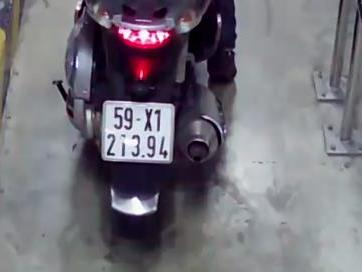num_plate: (102, 100, 174, 162)
